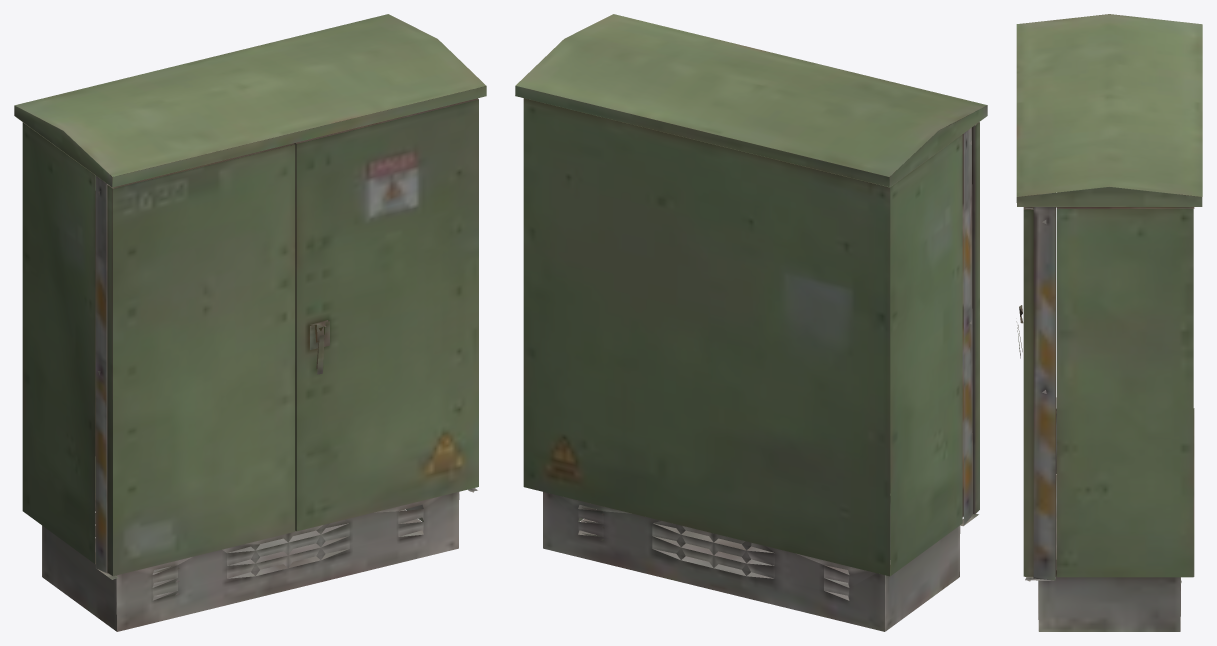
The model's file is utility-box.glb.
3 views of the same model, side by side, from view 1: azimuth 30°, elevation 25°; view 2: azimuth 150°, elevation 25°; view 3: azimuth 270°, elevation 25° (orthographic). The views are drawn at different scales.
Visible parts, largest first — view 1: utility_box_02; view 2: utility_box_02; view 3: utility_box_02.
Boxes of the visible parts, left/top/right/bottom form: utility_box_02: left=14, top=14, right=486, bottom=631; utility_box_02: left=515, top=14, right=987, bottom=631; utility_box_02: left=1016, top=14, right=1202, bottom=631.
Bounding box in the file's own units: 0.9178 × 1.12 × 0.4172.
1 material, 1 textured.
